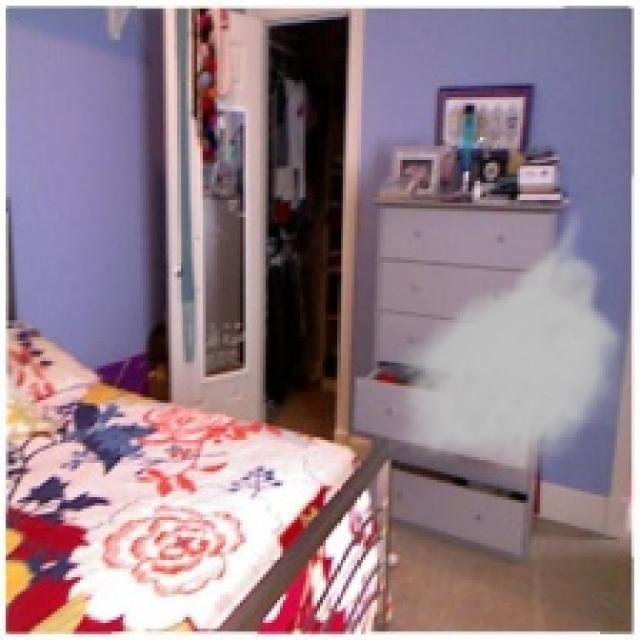Smoke: (386, 202, 632, 474)
